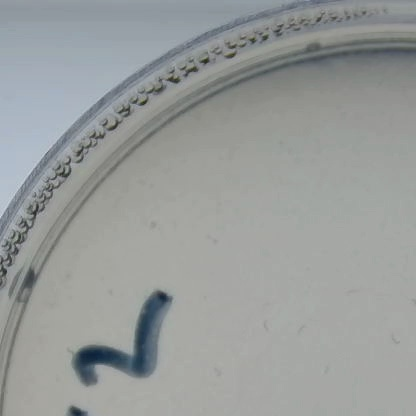worm: (383, 329, 407, 353), (258, 312, 275, 341), (289, 319, 309, 343), (203, 231, 224, 247), (341, 288, 363, 299), (208, 365, 223, 381), (61, 340, 76, 353)
